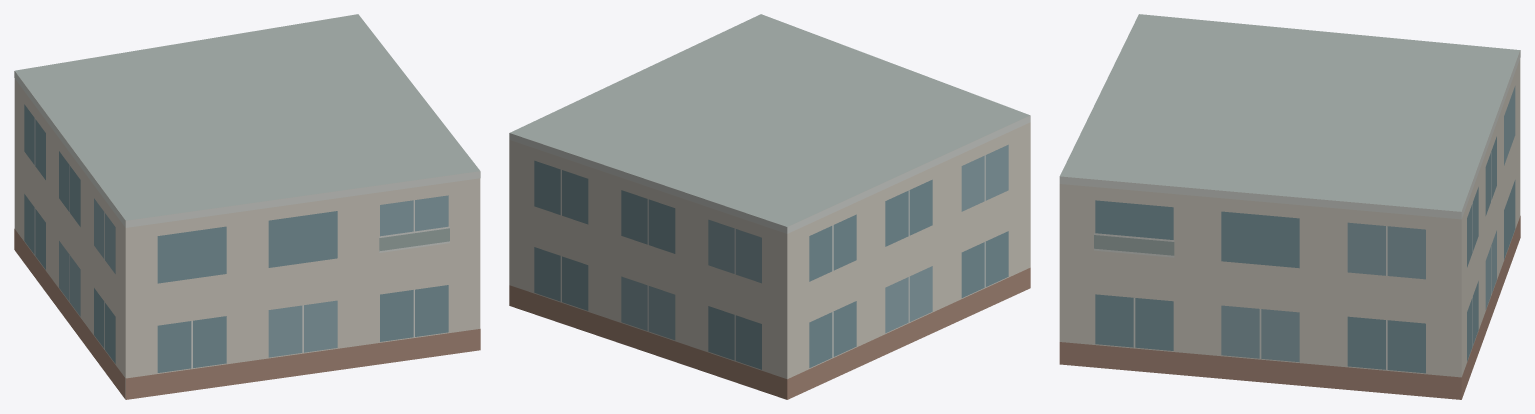
The model's file is survey-upis-32483593.glb.
The picture shows the model from 3 angles, left to right: view 1: azimuth 30°, elevation 25°; view 2: azimuth 150°, elevation 25°; view 3: azimuth 270°, elevation 25°; orthographic projection. The views are drawn at different scales.
Visible parts, largest first — view 1: survey-upis-32483593.tmp; view 2: survey-upis-32483593.tmp; view 3: survey-upis-32483593.tmp.
Boxes of the visible parts, x1,y1,x2,y2 form: survey-upis-32483593.tmp: [14, 14, 480, 399]; survey-upis-32483593.tmp: [509, 14, 1030, 399]; survey-upis-32483593.tmp: [1059, 14, 1520, 399].
Size of the model in its own units: 13.78 by 6.1 by 13.56.
